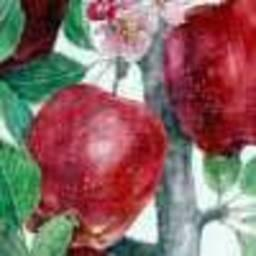apple: (22, 84, 170, 253), (165, 1, 256, 152)
